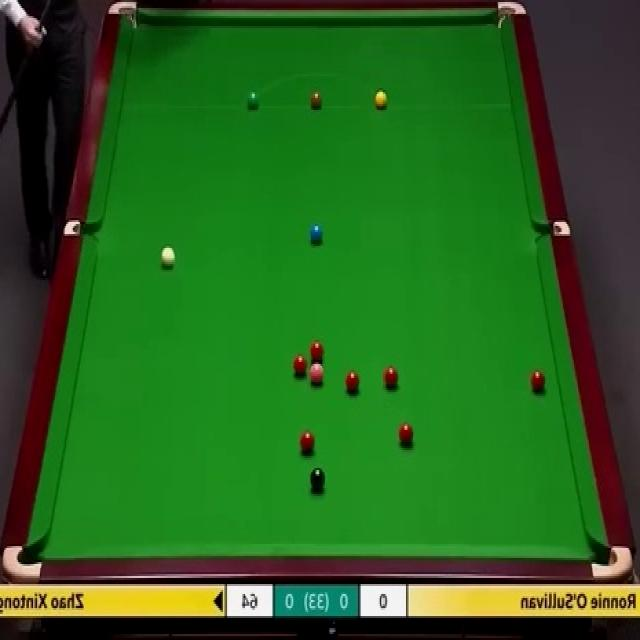black-ball: (310, 468, 326, 489)
blue-ball: (308, 221, 322, 245)
brown-ball: (309, 91, 323, 109)
green-ball: (246, 91, 261, 109)
pink-ball: (309, 363, 326, 386)
red-ball: (291, 353, 308, 378), (383, 364, 399, 389), (300, 430, 315, 455), (530, 369, 546, 392), (309, 339, 325, 361), (398, 422, 412, 446), (345, 370, 360, 390)
white-ball: (160, 246, 178, 268)
yellow-ball: (374, 91, 388, 108)
